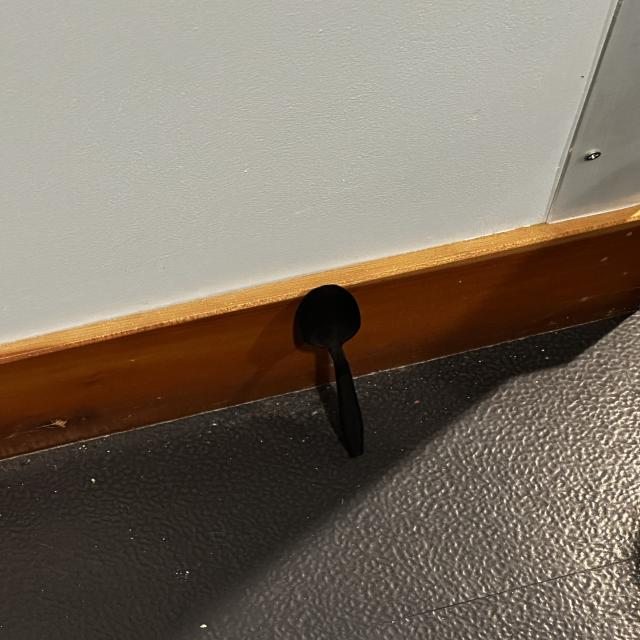spoon: (239, 256, 439, 474)
